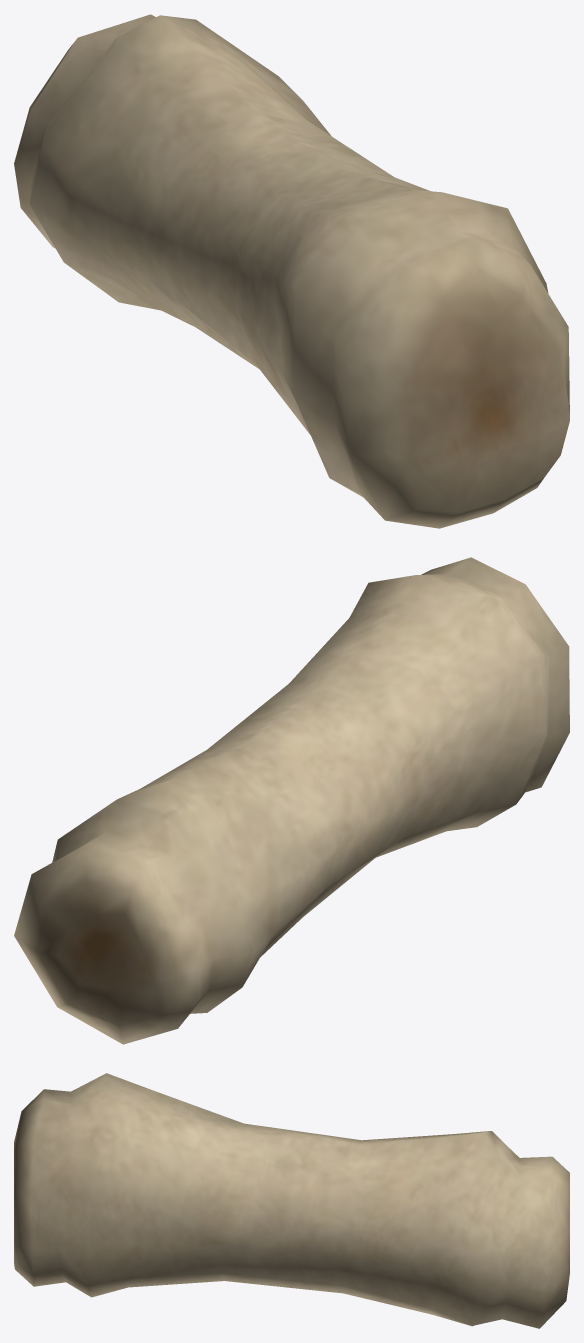
Rendered from Caudal_Vertebrae10.glb.
3 renders of one model, top to bottom at view 1: azimuth 30°, elevation 25°; view 2: azimuth 150°, elevation 25°; view 3: azimuth 270°, elevation 25°, orthographic. The views are drawn at different scales.
Parts seen in each view (by area): view 1: Caudal_Vertebrae_29:Group48070; view 2: Caudal_Vertebrae_29:Group48070; view 3: Caudal_Vertebrae_29:Group48070.
Boxes of the visible parts, bbox=[...] form: Caudal_Vertebrae_29:Group48070: bbox=[14, 14, 569, 528]; Caudal_Vertebrae_29:Group48070: bbox=[14, 557, 569, 1044]; Caudal_Vertebrae_29:Group48070: bbox=[14, 1073, 569, 1328].
Bounding box in the file's own units: 7.91 × 8.28 × 19.38.
Materials: 1 (1 with a texture image).
